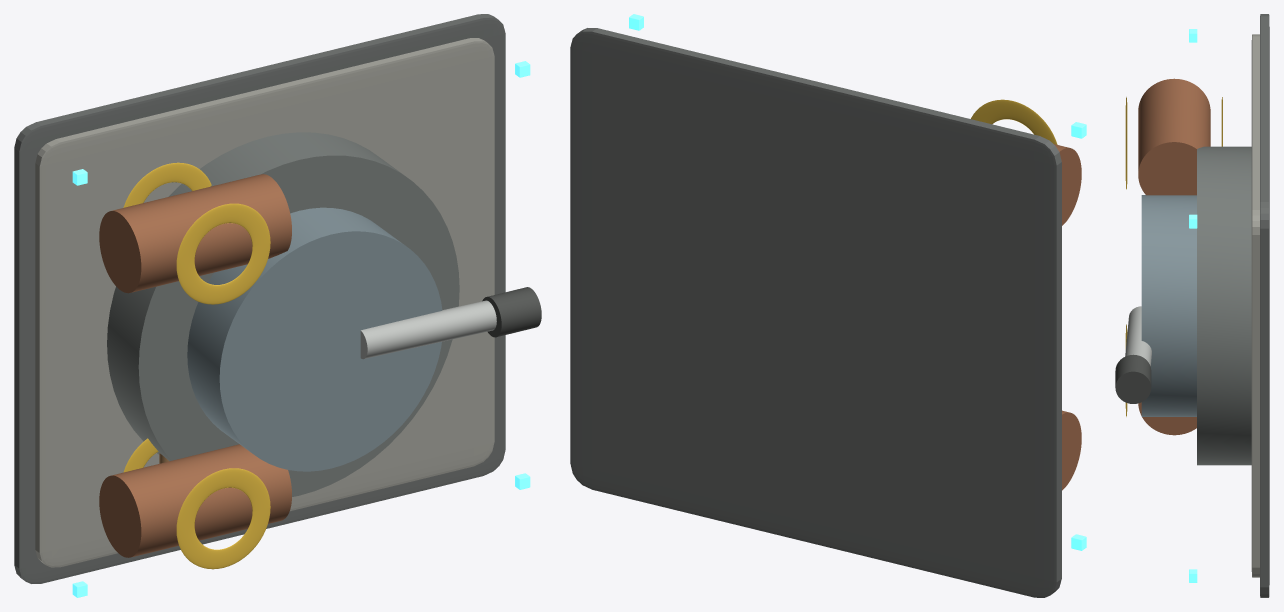
Rendered from b-36-flame-tower-lod1.glb.
3 renders of one model, left to right at view 1: azimuth 30°, elevation 25°; view 2: azimuth 150°, elevation 25°; view 3: azimuth 270°, elevation 25°, orthographic. The views are drawn at different scales.
Parts seen in each view (by area): view 1: foundation_inner_pad, primary_turret_yaw, turret_base, foundation, flame_fuel_2.6_vessel, flame_fuel_-2.6_vessel, flame_fuel_2.6_ring_high, flame_fuel_-2.6_ring_high, flame_projector_barrel_0, flame_projector_muzzle_0, flame_fuel_2.6_ring_low; view 2: foundation, flame_fuel_2.6_ring_high, flame_fuel_2.6_vessel, flame_fuel_-2.6_vessel; view 3: turret_base, primary_turret_yaw, flame_fuel_2.6_vessel, foundation, foundation_inner_pad, flame_projector_muzzle_0, flame_projector_barrel_0, flame_fuel_-2.6_vessel, flame_fuel_2.6_ring_high.
Boxes of the visible parts, bbox=[...] form: foundation_inner_pad: bbox=[35, 38, 494, 567]; primary_turret_yaw: bbox=[187, 207, 442, 471]; turret_base: bbox=[107, 132, 459, 496]; foundation: bbox=[14, 14, 505, 583]; flame_fuel_2.6_vessel: bbox=[99, 174, 291, 293]; flame_fuel_-2.6_vessel: bbox=[99, 444, 291, 557]; flame_fuel_2.6_ring_high: bbox=[176, 203, 270, 304]; flame_fuel_-2.6_ring_high: bbox=[176, 468, 270, 569]; flame_projector_barrel_0: bbox=[360, 300, 496, 359]; flame_projector_muzzle_0: bbox=[482, 287, 541, 337]; flame_fuel_2.6_ring_low: bbox=[123, 162, 211, 207]; foundation: bbox=[570, 28, 1061, 597]; flame_fuel_2.6_ring_high: bbox=[971, 99, 1057, 144]; flame_fuel_2.6_vessel: bbox=[1054, 144, 1081, 225]; flame_fuel_-2.6_vessel: bbox=[1062, 410, 1081, 490]; turret_base: bbox=[1197, 146, 1251, 465]; primary_turret_yaw: bbox=[1141, 195, 1196, 416]; flame_fuel_2.6_vessel: bbox=[1138, 78, 1210, 195]; foundation: bbox=[1260, 14, 1269, 597]; foundation_inner_pad: bbox=[1251, 34, 1259, 577]; flame_projector_muzzle_0: bbox=[1115, 354, 1151, 403]; flame_projector_barrel_0: bbox=[1125, 306, 1151, 365]; flame_fuel_-2.6_vessel: bbox=[1138, 402, 1196, 435]; flame_fuel_2.6_ring_high: bbox=[1125, 97, 1127, 189].
Size of what is drawn, in the model's own units: 10 by 9 by 3.19.
